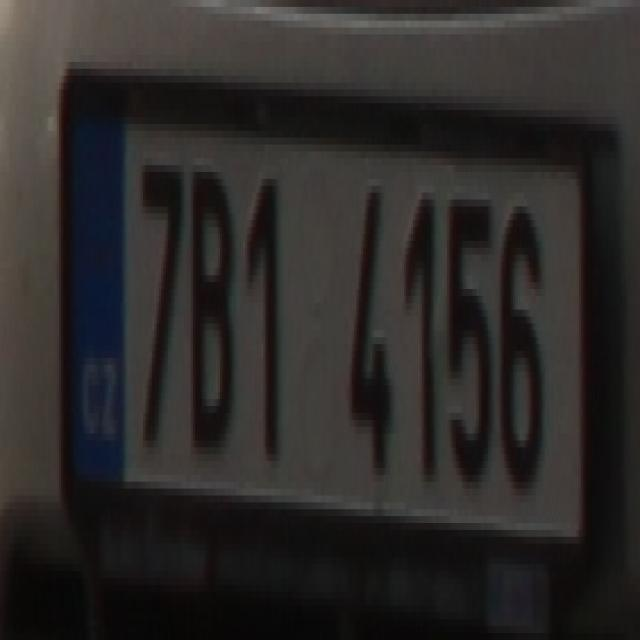1: (245, 179, 284, 475), (406, 200, 443, 474)
4: (342, 172, 392, 482)
5: (445, 179, 495, 475)
6: (499, 200, 547, 496)
7: (136, 144, 182, 448)
B: (188, 152, 232, 440)
